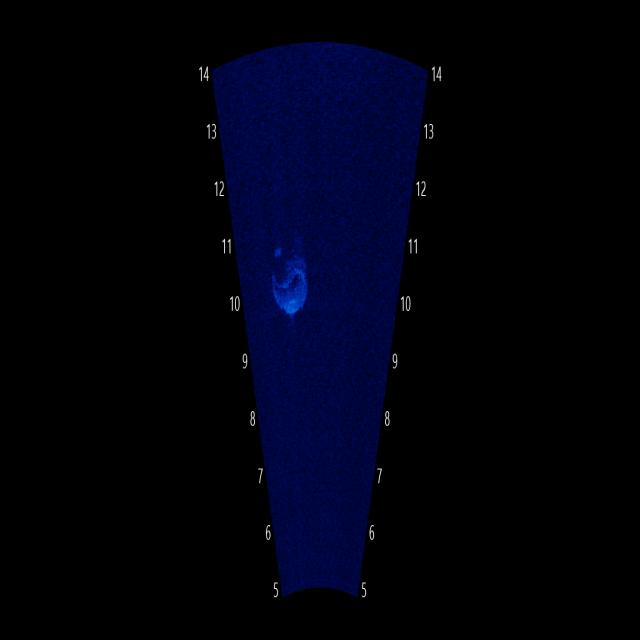circle: (260, 217, 320, 332)
